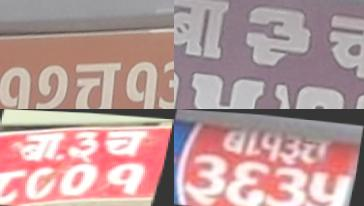0: (174, 0, 234, 58), (62, 162, 102, 194), (28, 168, 65, 200)
1: (119, 51, 165, 109), (0, 59, 42, 109), (106, 161, 150, 195), (259, 128, 285, 160)
2: (30, 56, 77, 109)
3: (183, 151, 233, 206), (266, 163, 314, 206), (66, 129, 110, 164), (154, 51, 174, 109), (280, 131, 306, 163)
5: (181, 66, 270, 109), (306, 166, 355, 206)
6: (225, 158, 277, 206)
8: (0, 167, 31, 205)
9: (323, 8, 364, 77)
ba: (241, 0, 319, 66), (22, 130, 62, 162), (221, 126, 258, 154)
cha: (67, 49, 126, 109), (102, 127, 147, 157), (298, 133, 332, 166)
lu: (265, 77, 352, 109)
